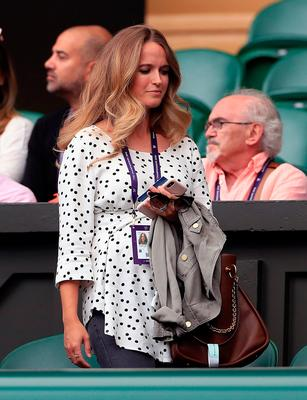Person: (61, 25, 208, 365), (206, 90, 307, 201)
